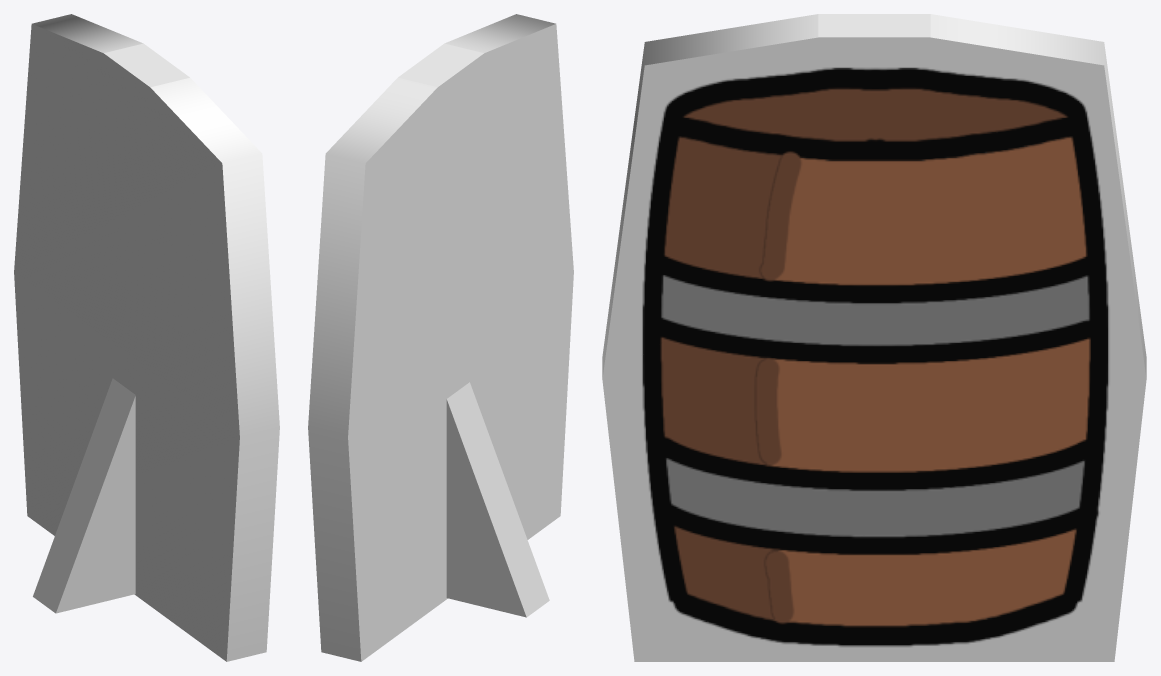
The model's file is barrel.fbx.
3 views of the same model, side by side, from view 1: azimuth 30°, elevation 25°; view 2: azimuth 150°, elevation 25°; view 3: azimuth 270°, elevation 25° (orthographic). The views are drawn at different scales.
Visible parts, largest first — view 1: pCube3, pCube30; view 2: pCube3, pCube30; view 3: pCube3.
Part boxes in pixels (box(x1,y1,x2,y2)): pCube3: box(14, 14, 279, 661); pCube30: box(33, 378, 135, 613); pCube3: box(308, 14, 573, 661); pCube30: box(446, 382, 549, 617); pCube3: box(602, 14, 1146, 661).
Size of the model in its own units: 1.5 by 6.2 by 4.89.
